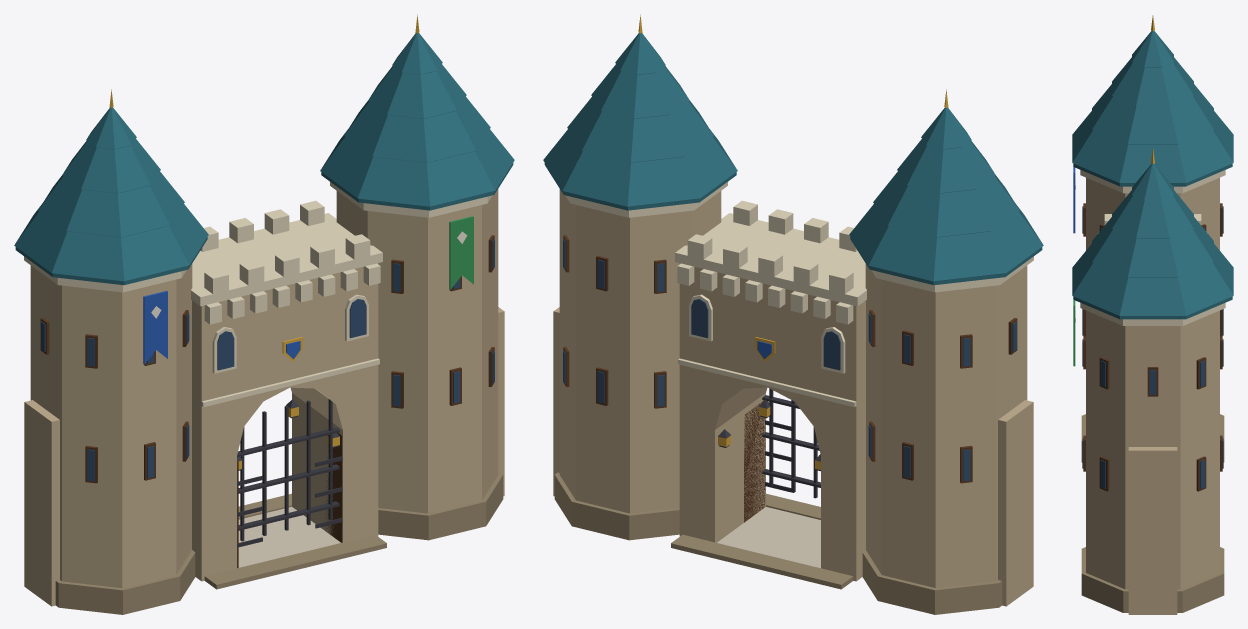
Rendered from Wall_Gate.fbx.
The picture shows the model from 3 angles, left to right: view 1: azimuth 30°, elevation 25°; view 2: azimuth 150°, elevation 25°; view 3: azimuth 270°, elevation 25°; orthographic projection. The views are drawn at different scales.
Visible parts, largest first — view 1: Wall_Gate; view 2: Wall_Gate; view 3: Wall_Gate.
Part boxes in pixels (x1,y1,x2,y2): Wall_Gate: (14, 14, 514, 614); Wall_Gate: (543, 14, 1043, 614); Wall_Gate: (1072, 15, 1233, 614).
Bounding box in the file's own units: 15.74 × 15.92 × 5.34.
